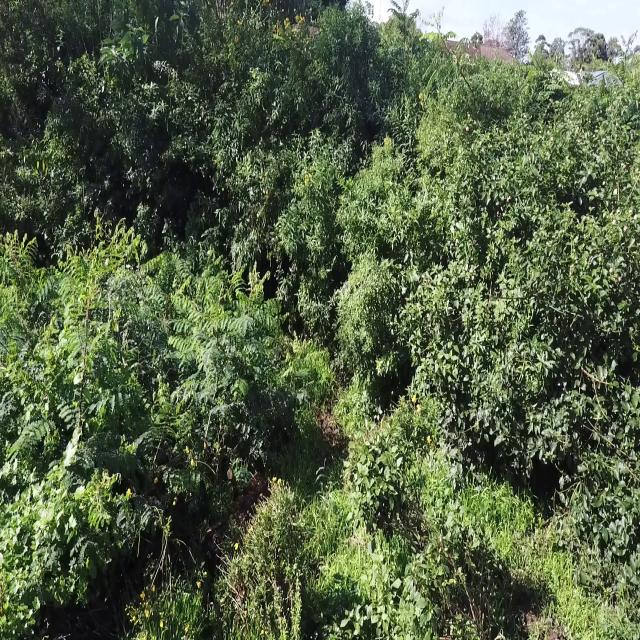Mysore-Thorn-Weed: (62, 208, 140, 450), (5, 481, 142, 611), (4, 343, 86, 475), (185, 294, 251, 443), (174, 296, 250, 424), (145, 367, 197, 539), (232, 260, 292, 382), (0, 215, 46, 310), (151, 223, 193, 300), (281, 338, 321, 418)
